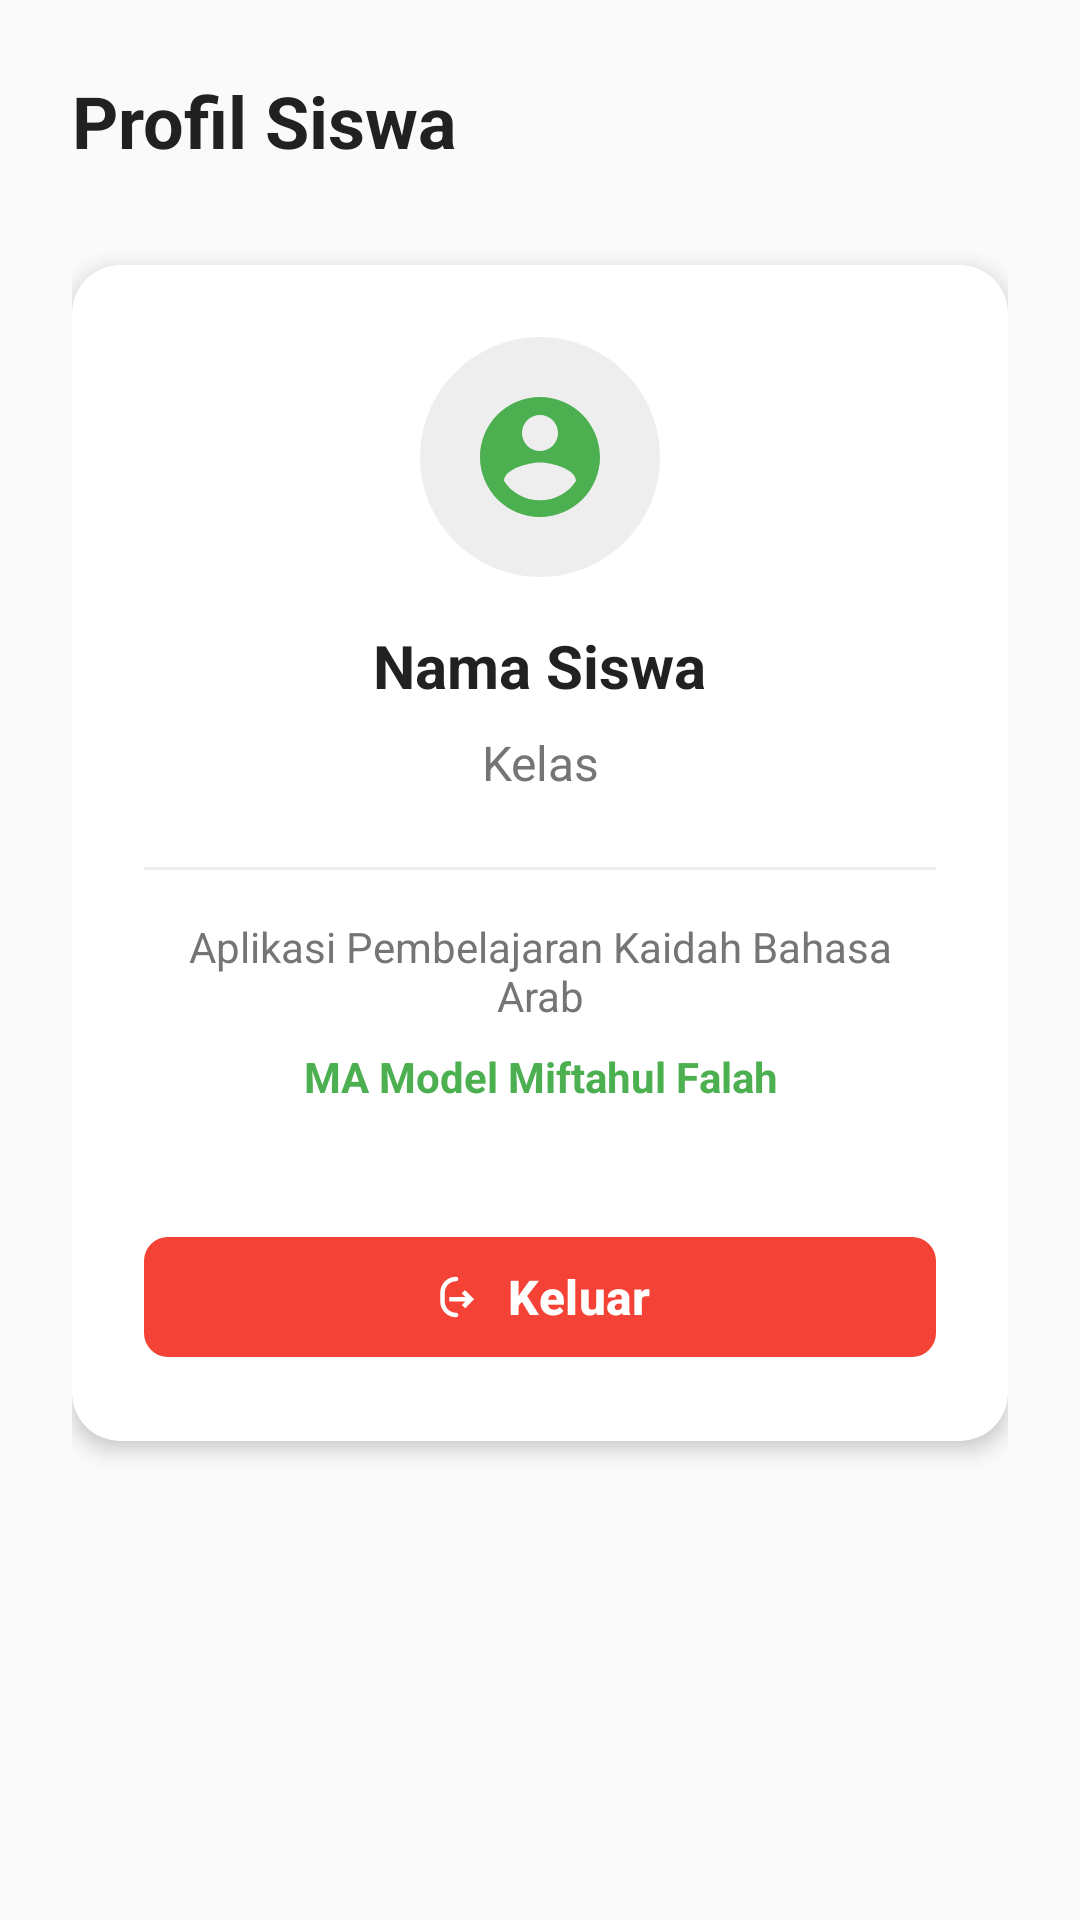

Named icons in this screenshot (1080*1920) and their centers, (x=x, y=y):
Profile: (x=540, y=457)
